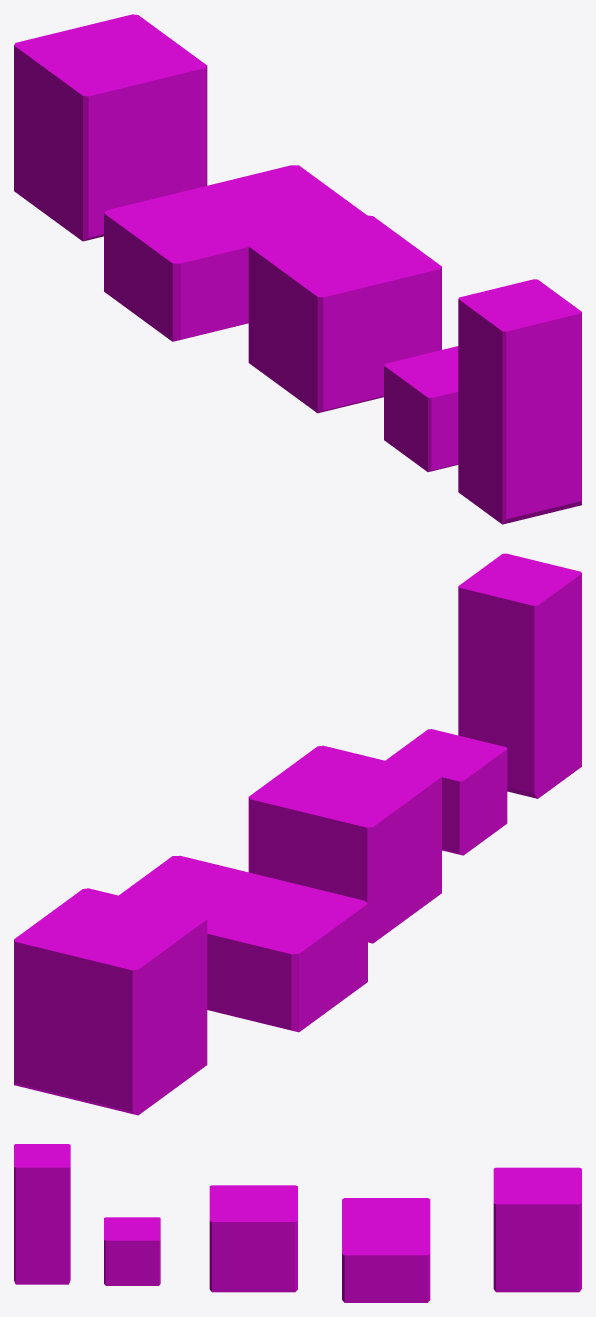
The model's file is boxes_closed.fbx.
3 views of the same model, one above another, from view 1: azimuth 30°, elevation 25°; view 2: azimuth 150°, elevation 25°; view 3: azimuth 270°, elevation 25° (orthographic). The views are drawn at different scales.
Visible parts, largest first — view 1: Cube_004, Cube_006, Cube_010, Cube_001, Cube_008; view 2: Cube_004, Cube_006, Cube_010, Cube_001, Cube_008; view 3: Cube_004, Cube_006, Cube_001, Cube_010, Cube_008.
Part boxes in pixels (left/top/right/bottom): Cube_004: left=14, top=14, right=207, bottom=241; Cube_006: left=248, top=215, right=441, bottom=413; Cube_010: left=458, top=279, right=581, bottom=524; Cube_001: left=104, top=165, right=366, bottom=341; Cube_008: left=384, top=346, right=458, bottom=471; Cube_004: left=14, top=888, right=207, bottom=1115; Cube_006: left=248, top=745, right=441, bottom=943; Cube_010: left=458, top=553, right=581, bottom=798; Cube_001: left=119, top=855, right=367, bottom=1032; Cube_008: left=385, top=729, right=507, bottom=855; Cube_004: left=493, top=1167, right=581, bottom=1292; Cube_006: left=209, top=1185, right=297, bottom=1292; Cube_001: left=342, top=1198, right=430, bottom=1302; Cube_010: left=14, top=1144, right=70, bottom=1284; Cube_008: left=104, top=1217, right=160, bottom=1285.
Bounding box in the file's own units: 193 × 184 × 802.
